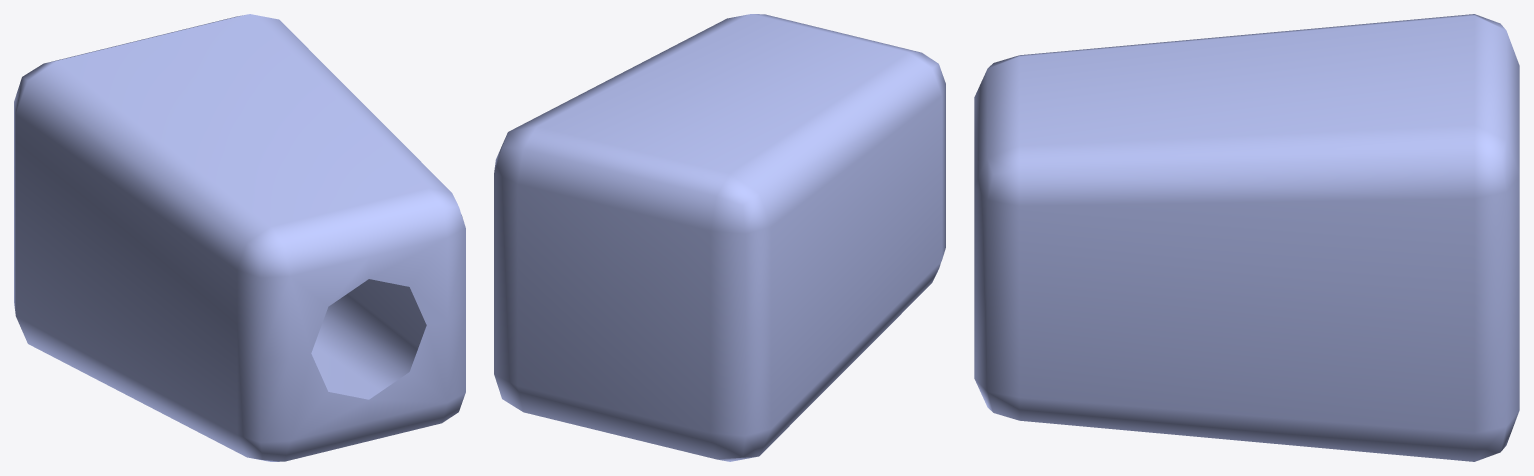
File: MeshSoapBottle_8_0_GeomSubset_0.obj
3 views of the same model, side by side, from view 1: azimuth 30°, elevation 25°; view 2: azimuth 150°, elevation 25°; view 3: azimuth 270°, elevation 25° (orthographic). The views are drawn at different scales.
Visible parts, largest first — view 1: MeshSoapBottle_8_0_GeomSubset_0; view 2: MeshSoapBottle_8_0_GeomSubset_0; view 3: MeshSoapBottle_8_0_GeomSubset_0.
Part boxes in pixels (bbox=[...]): MeshSoapBottle_8_0_GeomSubset_0: bbox=[14, 14, 465, 461]; MeshSoapBottle_8_0_GeomSubset_0: bbox=[494, 14, 945, 461]; MeshSoapBottle_8_0_GeomSubset_0: bbox=[974, 14, 1519, 461].
Size of the model in its own units: 0.0956 by 0.0956 by 0.1411.
